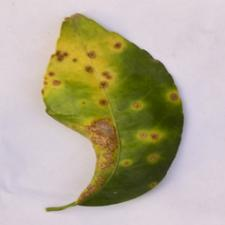Canker: (47, 48, 180, 200)
